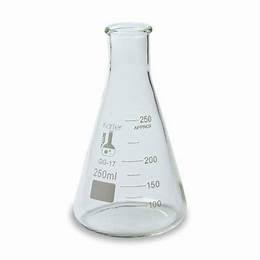Titrarion: (71, 17, 193, 238)
